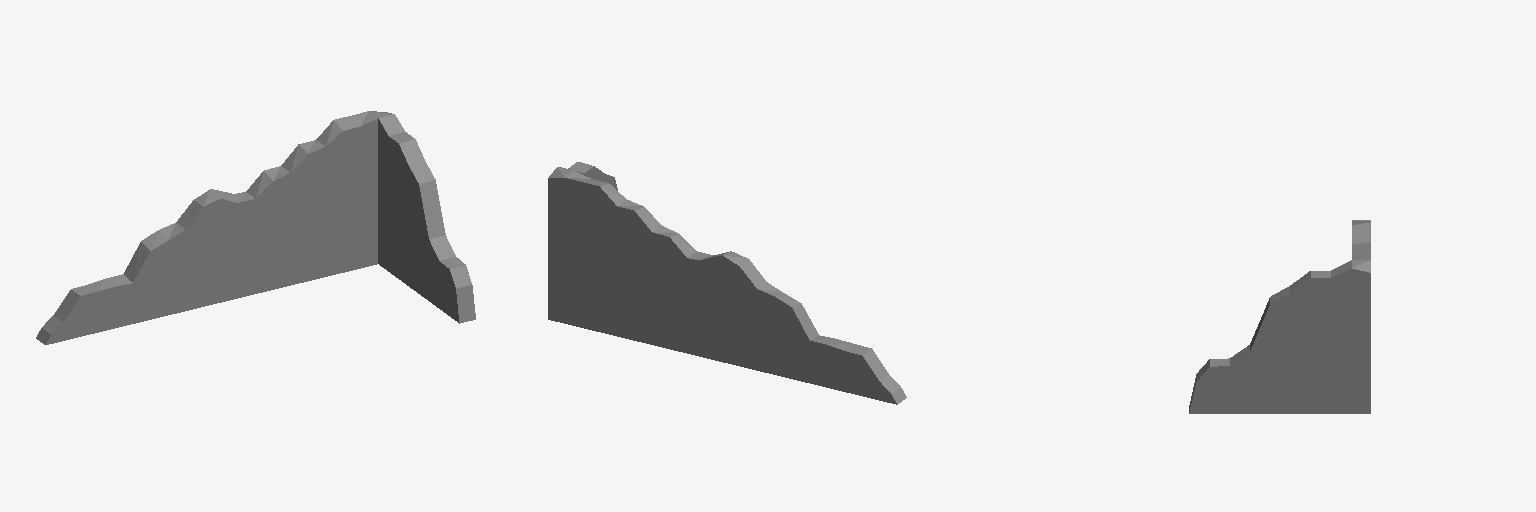
File: ChunkyBrokenWall02.obj
The picture shows the model from 3 angles: view 1: azimuth 30°, elevation 25°; view 2: azimuth 150°, elevation 25°; view 3: azimuth 270°, elevation 25°; orthographic projection.
Parts seen in each view (by area): view 1: ChunkyBrokenWall02_Lowpoly; view 2: ChunkyBrokenWall02_Lowpoly; view 3: ChunkyBrokenWall02_Lowpoly.
Part boxes in pixels (bbox=[...]): ChunkyBrokenWall02_Lowpoly: bbox=[36, 111, 475, 344]; ChunkyBrokenWall02_Lowpoly: bbox=[548, 162, 906, 404]; ChunkyBrokenWall02_Lowpoly: bbox=[1189, 220, 1370, 413].
Size of the model in its own units: 49.88 by 19.92 by 22.45.